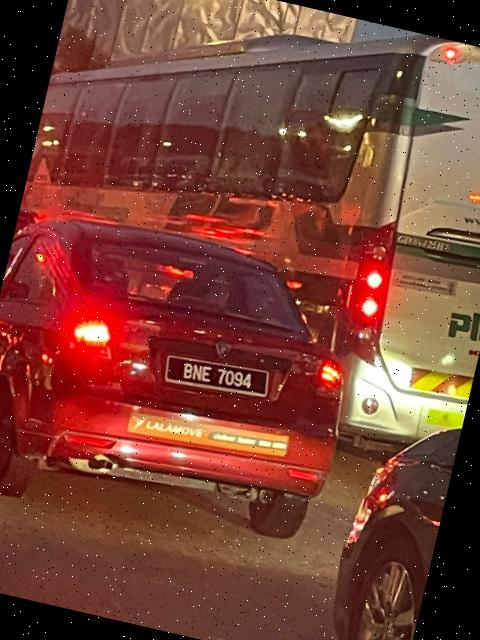License_Plate: (165, 347, 262, 402)
car: (1, 208, 379, 564)
